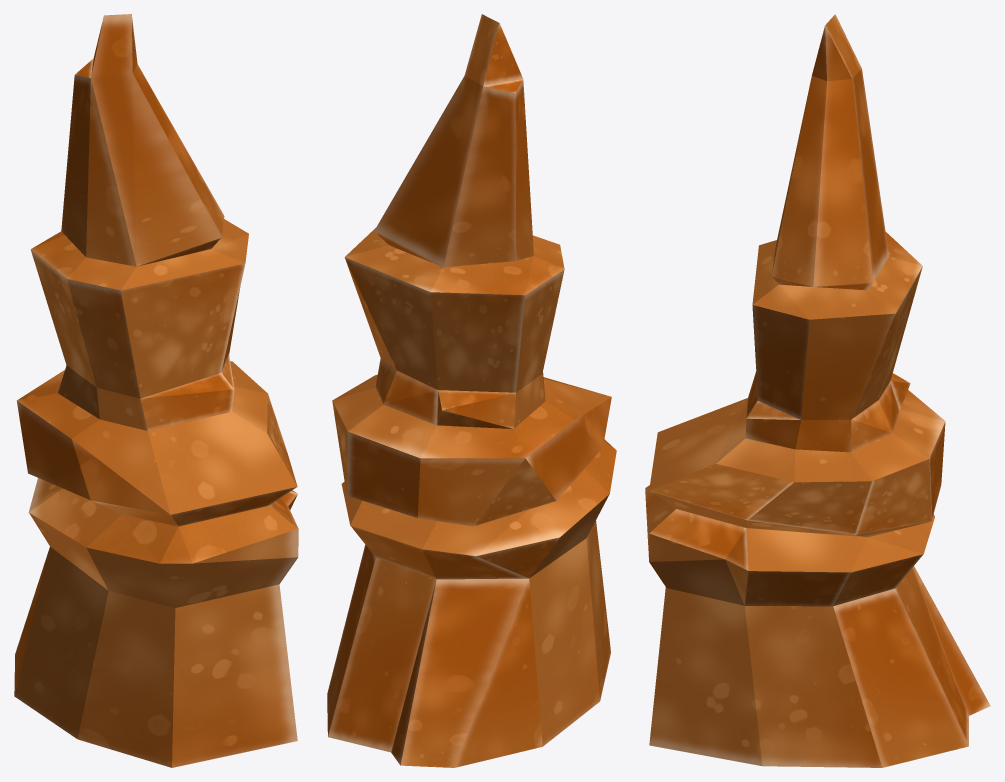
The model's file is CANYON_4.fbx.
3 renders of one model, left to right at view 1: azimuth 30°, elevation 25°; view 2: azimuth 150°, elevation 25°; view 3: azimuth 270°, elevation 25°, orthographic.
Visible parts, largest first — view 1: Plane.002; view 2: Plane.002; view 3: Plane.002.
Part boxes in pixels (<box>): Plane.002: <box>14,14,298,767</box>; Plane.002: <box>327,14,616,767</box>; Plane.002: <box>645,14,990,767</box>.
Size of the model in its own units: 2542 by 7595 by 3487.
Materials: 1 (1 with a texture image).
